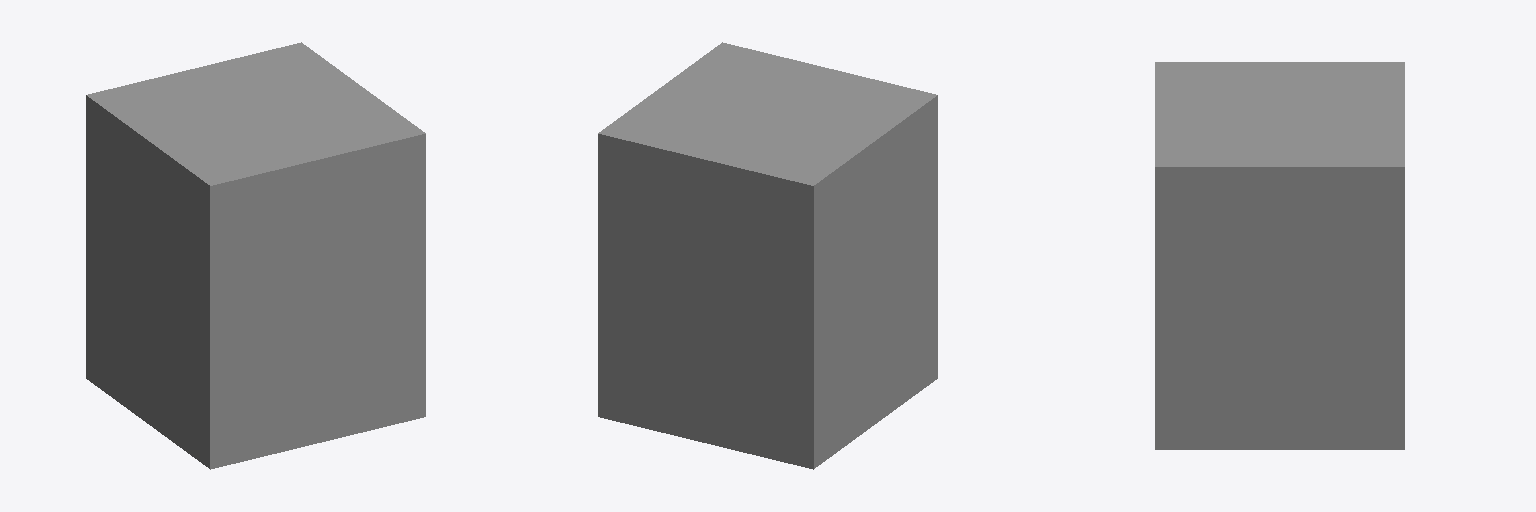
The model's file is cubeVertexAnimationFrame0.obj.
The picture shows the model from 3 angles: view 1: azimuth 30°, elevation 25°; view 2: azimuth 150°, elevation 25°; view 3: azimuth 270°, elevation 25°; orthographic projection.
Visible parts, largest first — view 1: Cube_Cube.001; view 2: Cube_Cube.001; view 3: Cube_Cube.001.
Part boxes in pixels (x1,y1,x2,y2): Cube_Cube.001: (86, 42, 425, 469); Cube_Cube.001: (598, 42, 937, 469); Cube_Cube.001: (1155, 62, 1404, 449).
Size of the model in its own units: 2 by 2.51 by 2.